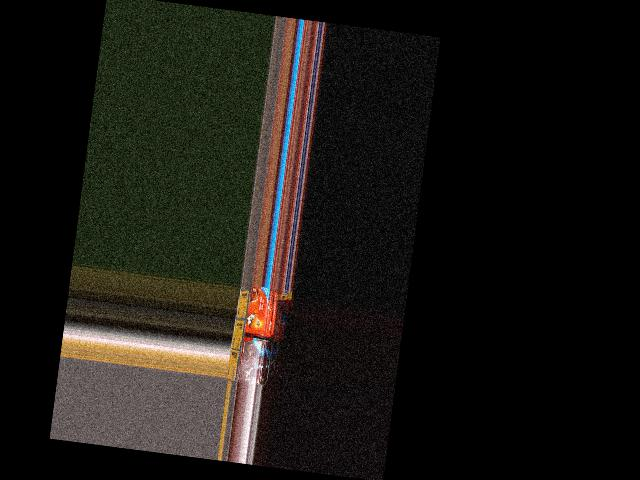chocolate: (232, 340, 264, 385)
